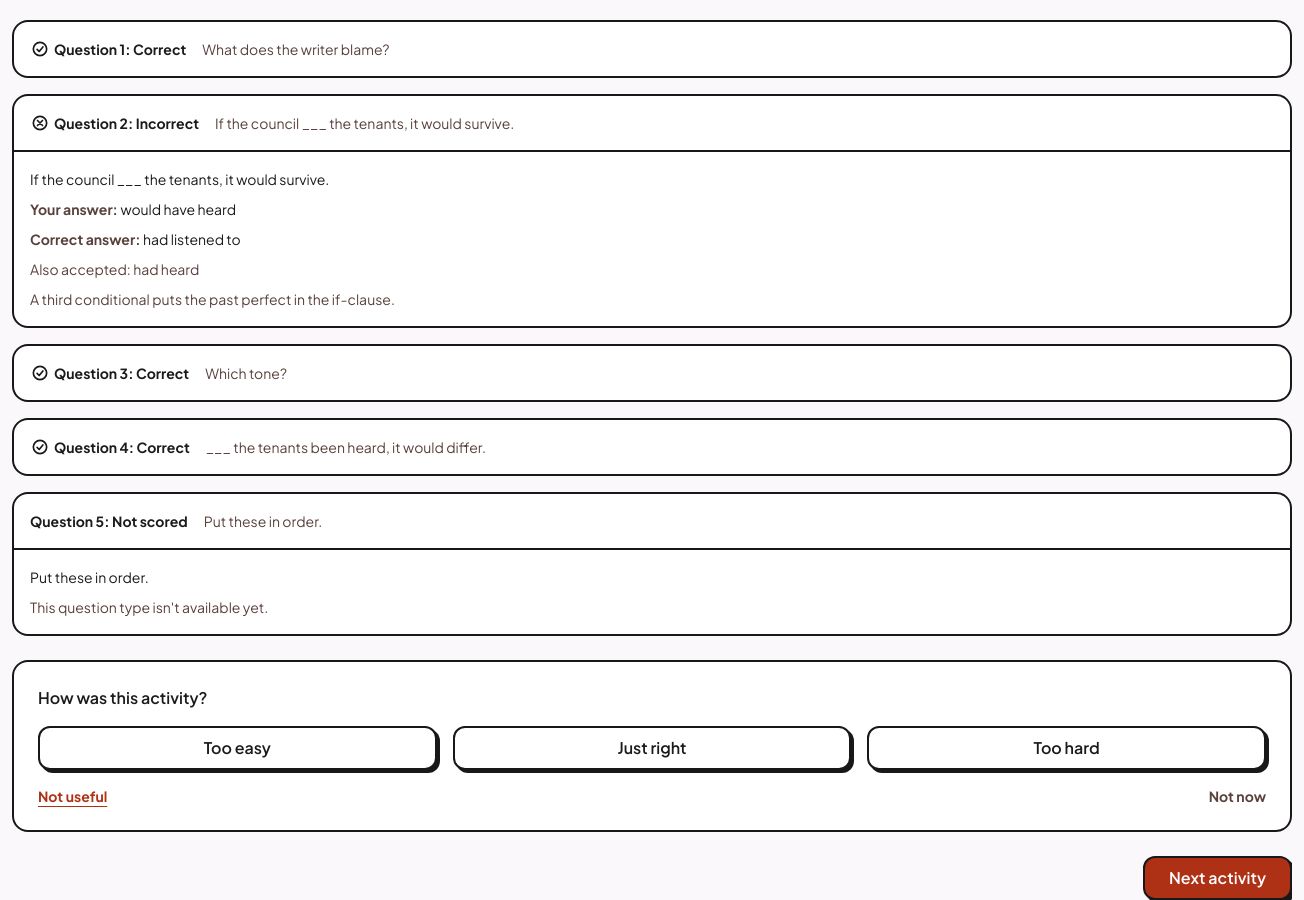
RatingPrompt › the_rating_prompt_is_dismissible_and_never_blocks_the_next_action
(page scrolled)
Expected: the link "Next activity" is shown, [1143, 856, 1292, 899]
Click the button "Not now" at (1237, 796), box [1209, 786, 1266, 806]
(page scrolled)
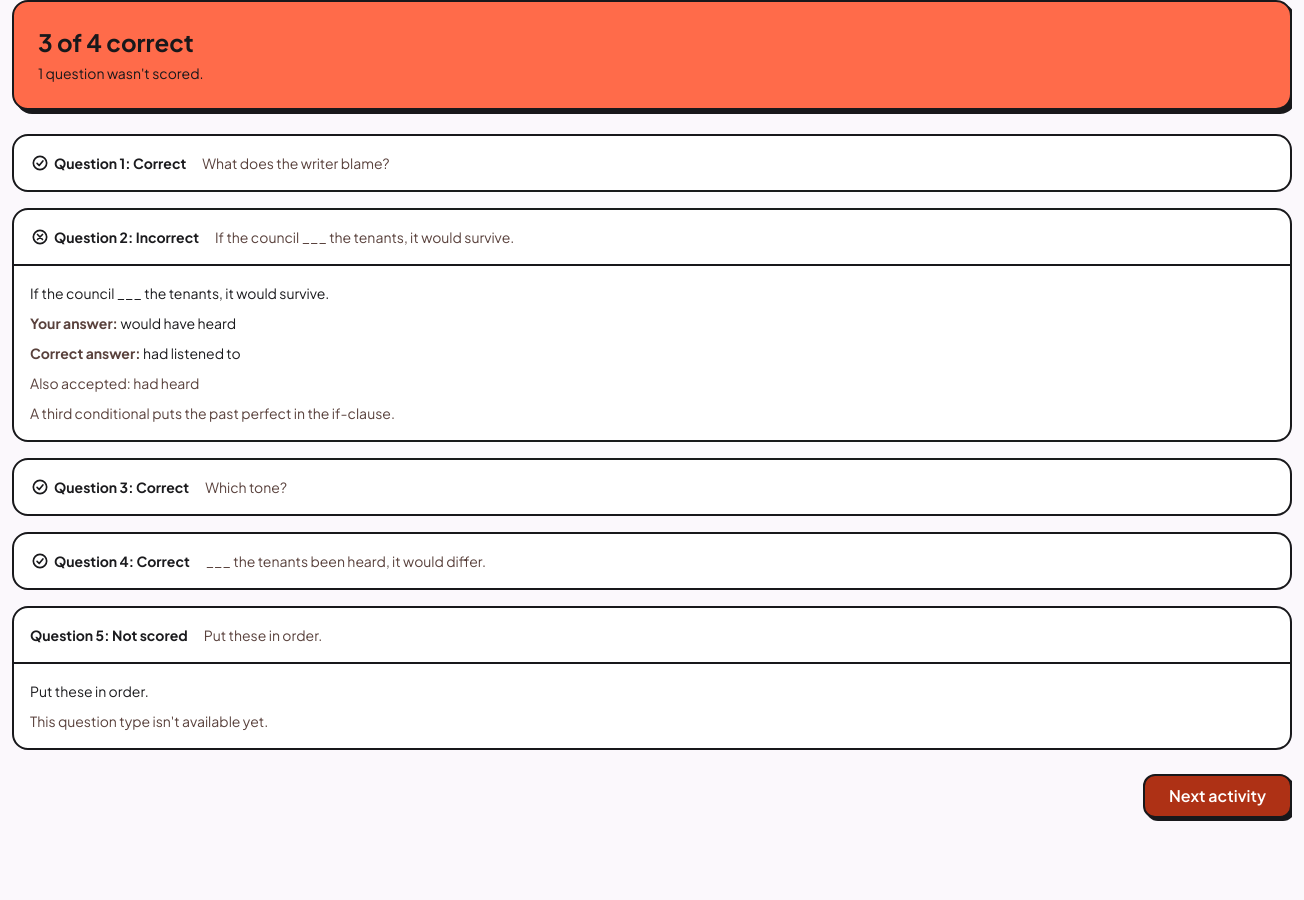
Expected: the link "Next activity" is shown, [1143, 774, 1292, 818]
Expected: the heading "How was this activity?" is gone
